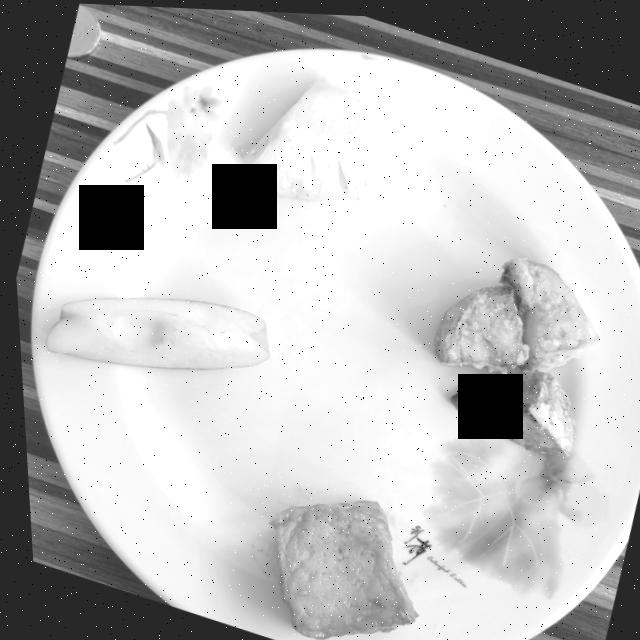apple -sliced-: (41, 296, 265, 368)
coin: (66, 4, 100, 57)
creamy tofu: (262, 497, 410, 637)
fried potato: (430, 253, 594, 451)
pineapple: (242, 73, 408, 198)
